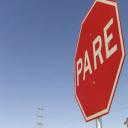Pare: (72, 0, 126, 123)
